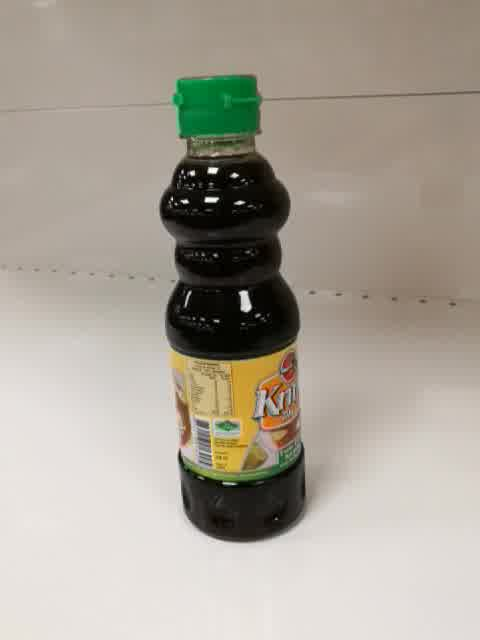cookingoil: (156, 72, 309, 544)
